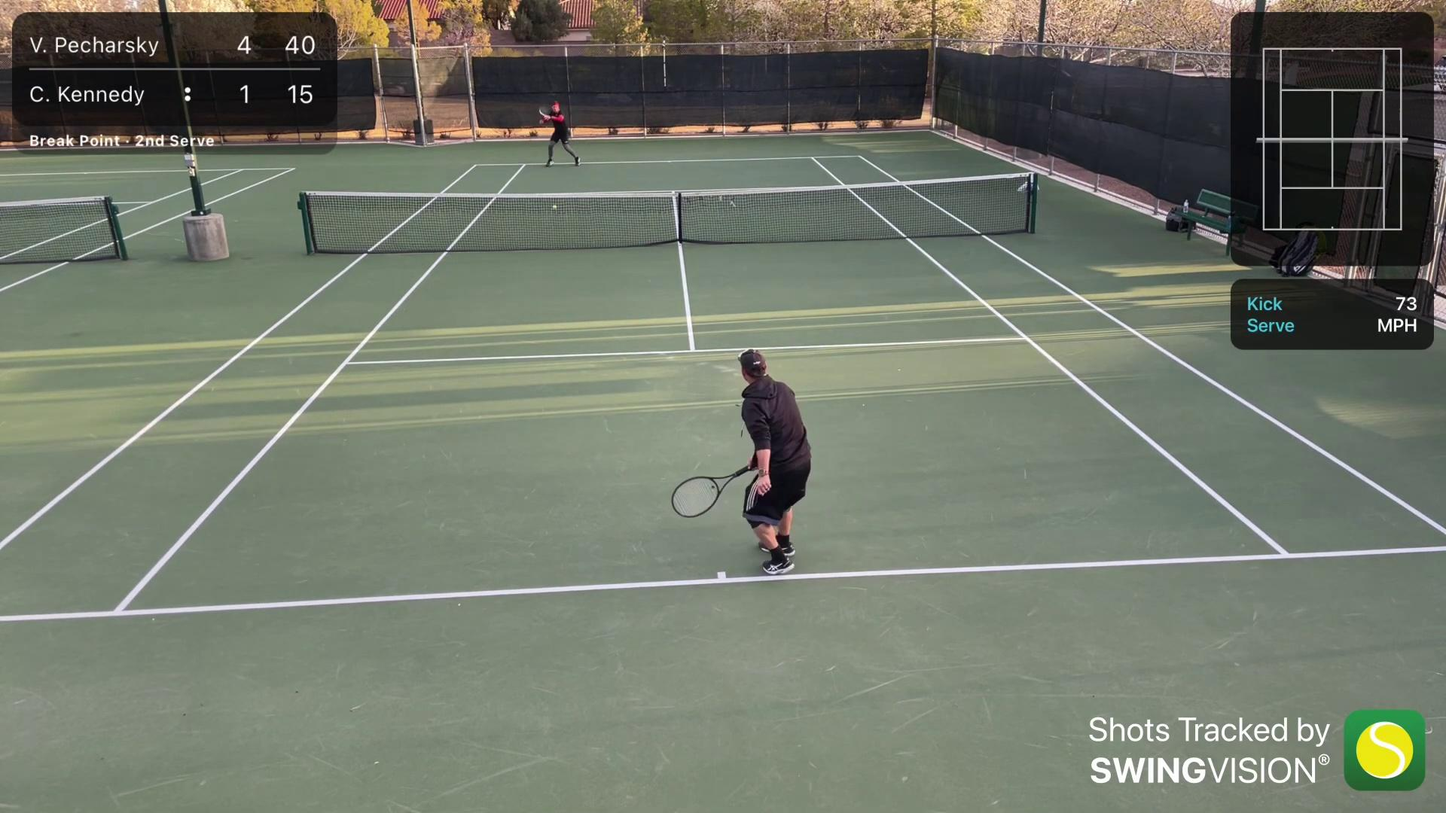ball: (551, 206, 558, 212)
